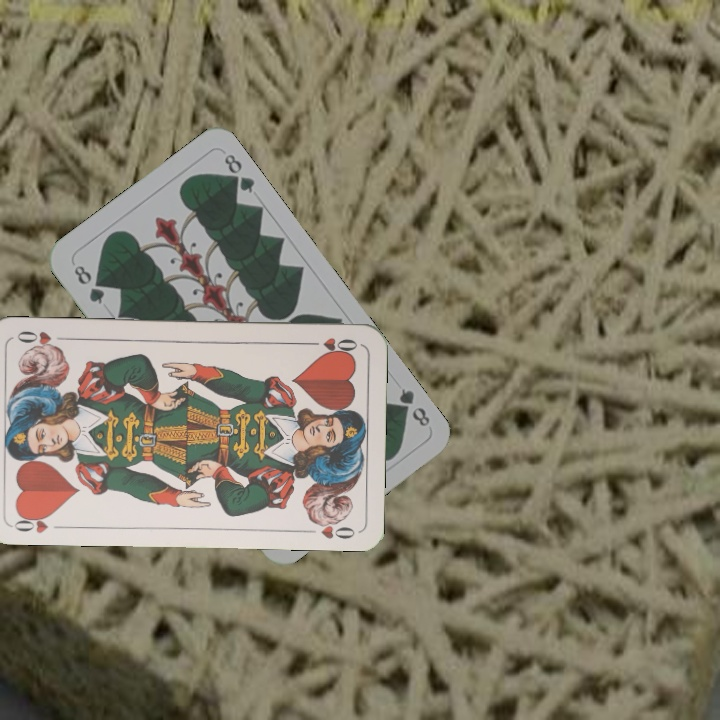G8: (391, 384, 433, 429), (69, 261, 107, 307)
HO: (9, 509, 68, 536), (302, 333, 360, 357)
